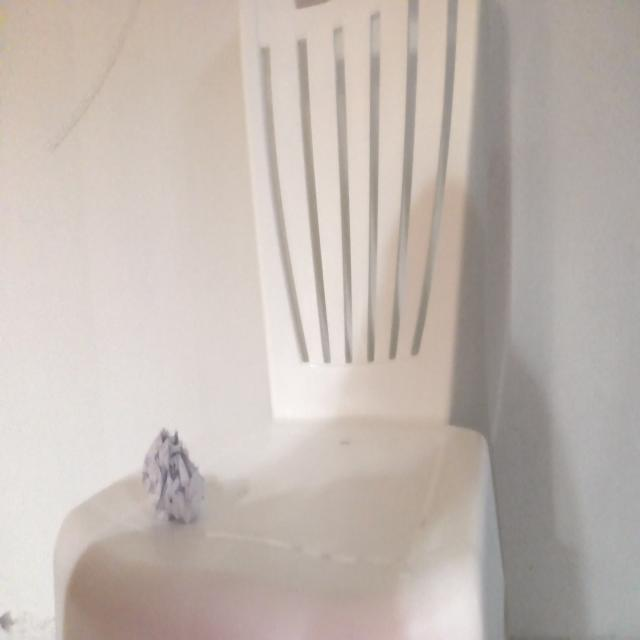crumpled_paper: (143, 421, 208, 529)
